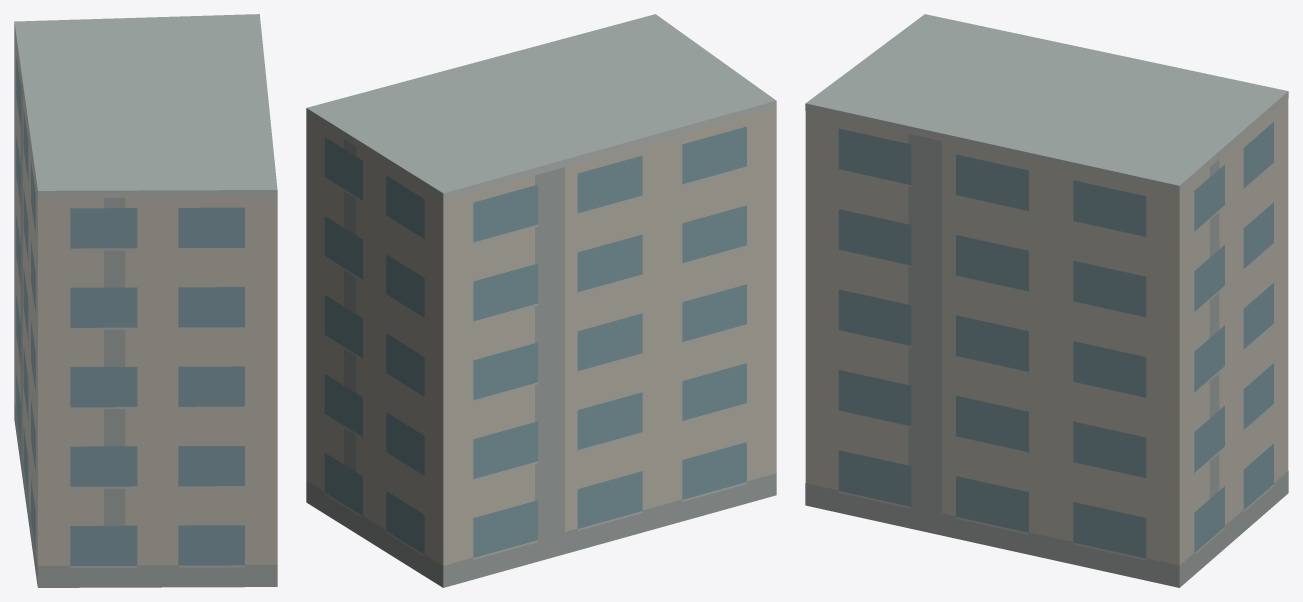
Rendered from survey-upis-32727153.glb.
The picture shows the model from 3 angles, left to right: view 1: azimuth 30°, elevation 25°; view 2: azimuth 150°, elevation 25°; view 3: azimuth 270°, elevation 25°; orthographic projection.
Parts seen in each view (by area): view 1: survey-upis-32727153.tmp; view 2: survey-upis-32727153.tmp; view 3: survey-upis-32727153.tmp.
Part boxes in pixels (box(x1,y1,x2,y2)): survey-upis-32727153.tmp: box(14, 14, 277, 587); survey-upis-32727153.tmp: box(306, 14, 776, 587); survey-upis-32727153.tmp: box(805, 14, 1288, 587).
Size of the model in its own units: 11.74 by 12.8 by 13.94.
